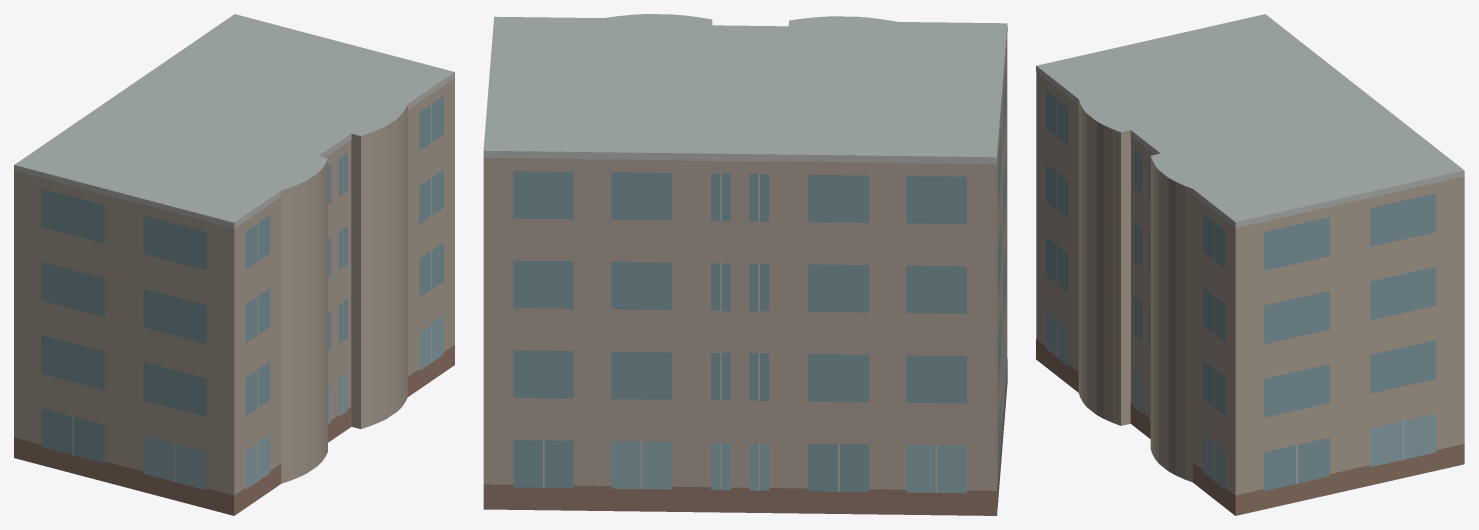
The model's file is survey-upis-32933010.glb.
3 renders of one model, left to right at view 1: azimuth 30°, elevation 25°; view 2: azimuth 150°, elevation 25°; view 3: azimuth 270°, elevation 25°, orthographic. The views are drawn at different scales.
Parts seen in each view (by area): view 1: survey-upis-32933010.tmp; view 2: survey-upis-32933010.tmp; view 3: survey-upis-32933010.tmp.
Part boxes in pixels (x1=…): survey-upis-32933010.tmp: x1=14, y1=14, x2=454, y2=515; survey-upis-32933010.tmp: x1=483, y1=14, x2=1007, y2=515; survey-upis-32933010.tmp: x1=1036, y1=14, x2=1464, y2=515.
Size of the model in its own units: 18.56 by 12.2 by 16.14.
